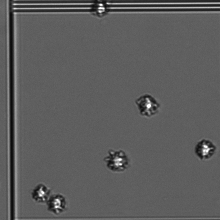Living Cell: (103, 149, 131, 174), (134, 94, 160, 118), (194, 138, 217, 161), (29, 180, 50, 204), (46, 193, 68, 213), (91, 1, 109, 20)
